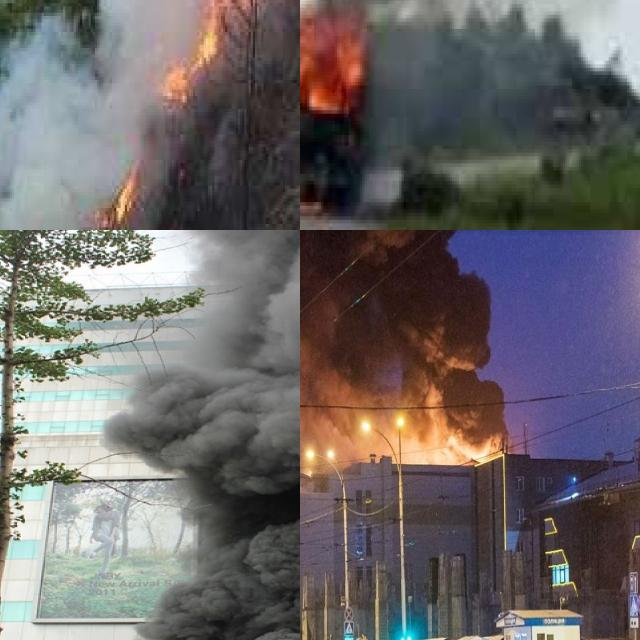fire: (300, 0, 385, 128), (154, 16, 217, 102), (408, 425, 508, 472), (93, 153, 142, 230)
smoke: (98, 230, 300, 640), (0, 0, 300, 230), (300, 230, 504, 451), (365, 18, 574, 153)
